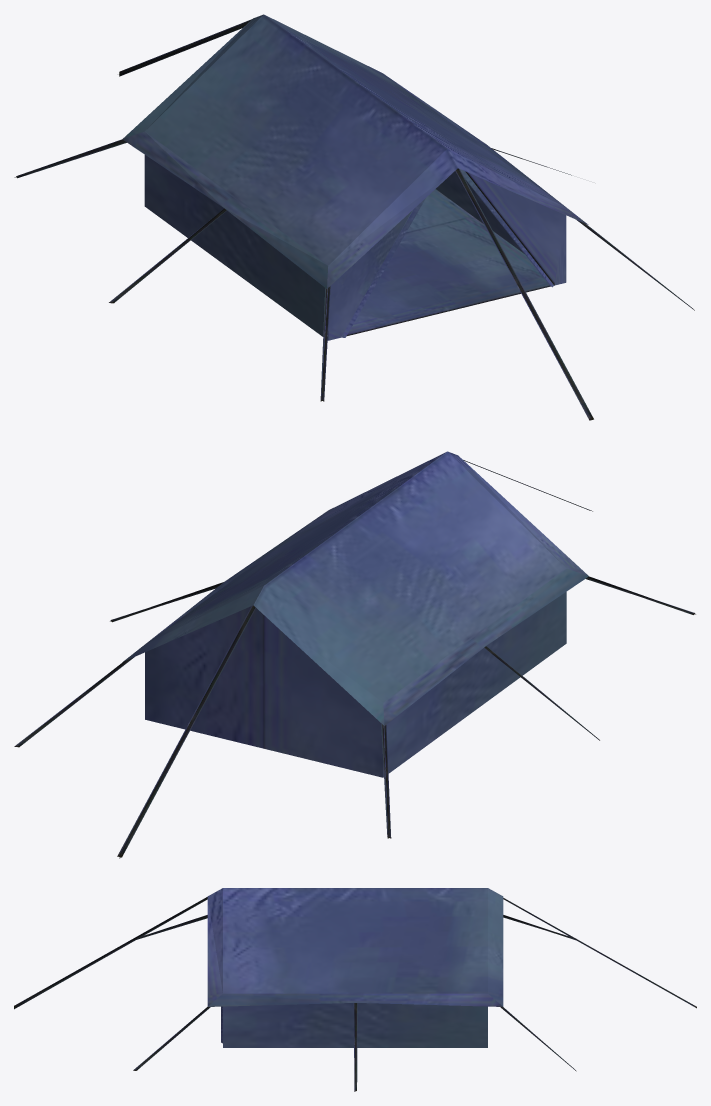
File: Tent02BB.obj
3 renders of one model, top to bottom at view 1: azimuth 30°, elevation 25°; view 2: azimuth 150°, elevation 25°; view 3: azimuth 270°, elevation 25°, orthographic. The views are drawn at different scales.
Visible parts, largest first — view 1: Tent02GB; view 2: Tent02GB; view 3: Tent02GB.
Part boxes in pixels (x1,y1,x2,y2): Tent02GB: (14, 14, 694, 420); Tent02GB: (14, 451, 695, 858); Tent02GB: (14, 888, 696, 1091).
Bounding box in the file's own units: 9.29 × 3.03 × 15.46.
